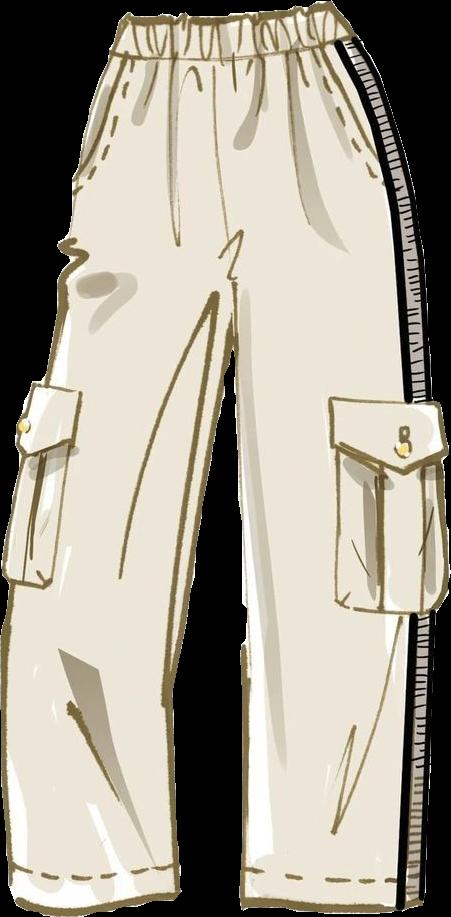Hemline: (12, 884, 184, 916), (238, 895, 429, 916)
Pantleg: (208, 1, 448, 916), (1, 12, 232, 916)
Waistline: (107, 28, 357, 65), (122, 0, 331, 27)
